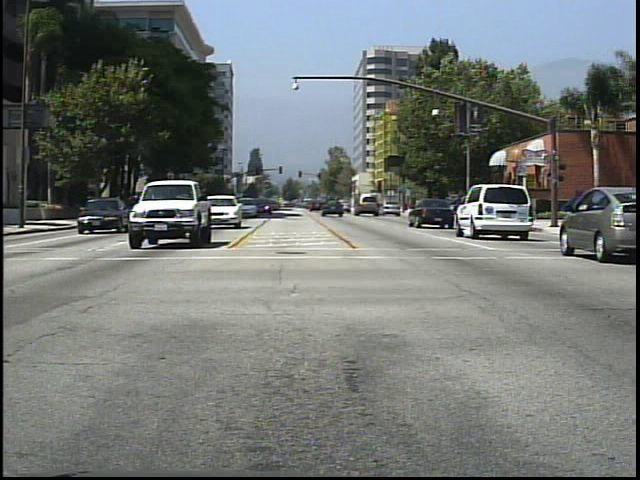person: (500, 190, 519, 229), (459, 191, 476, 227)
